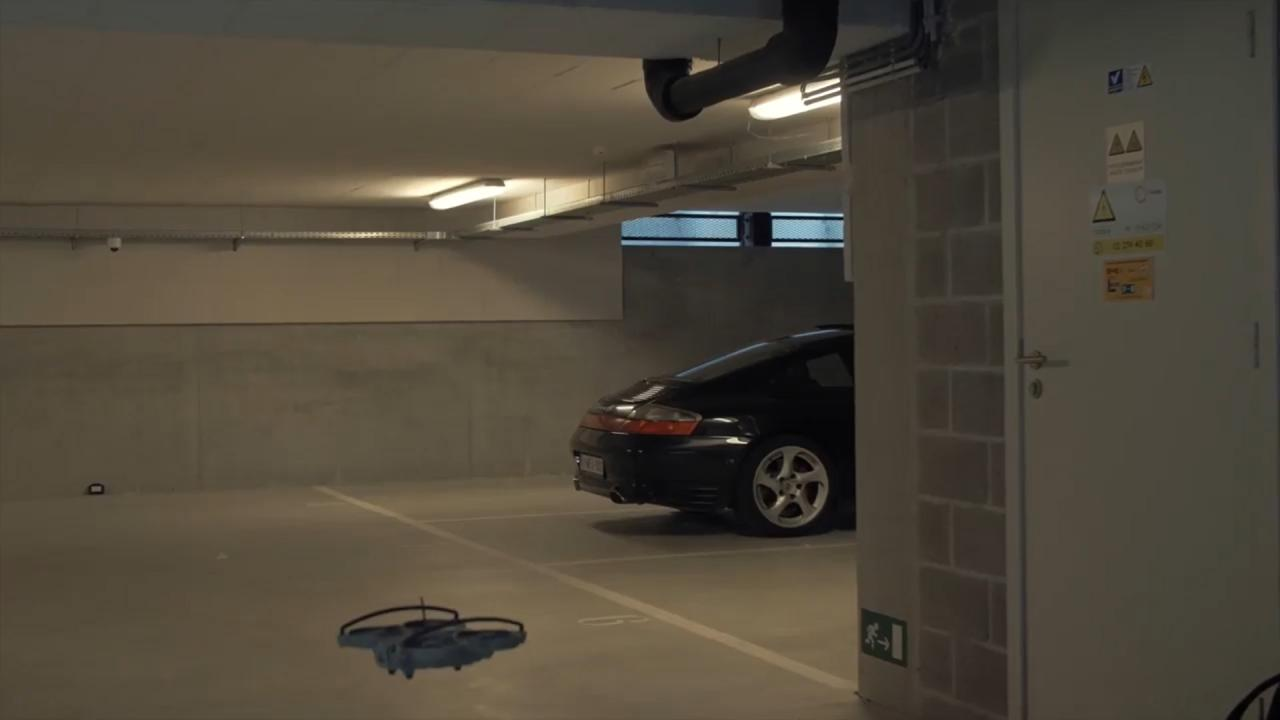Drone: (323, 578, 542, 693)
